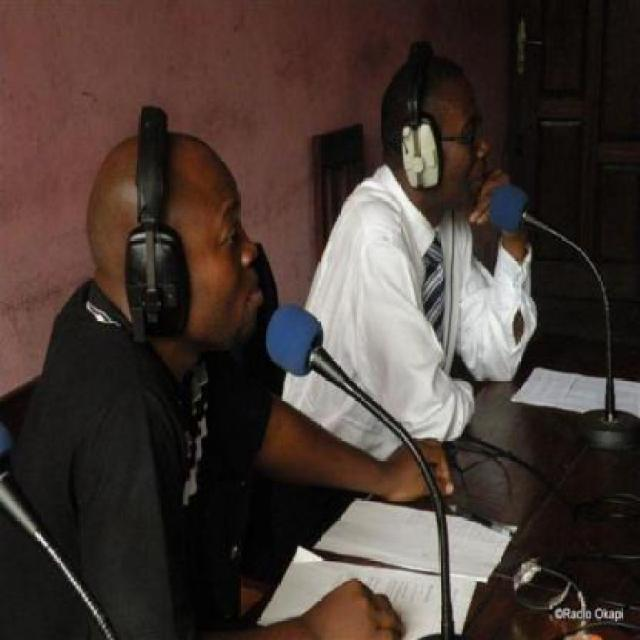earphone: (113, 75, 217, 340), (392, 25, 446, 198)
